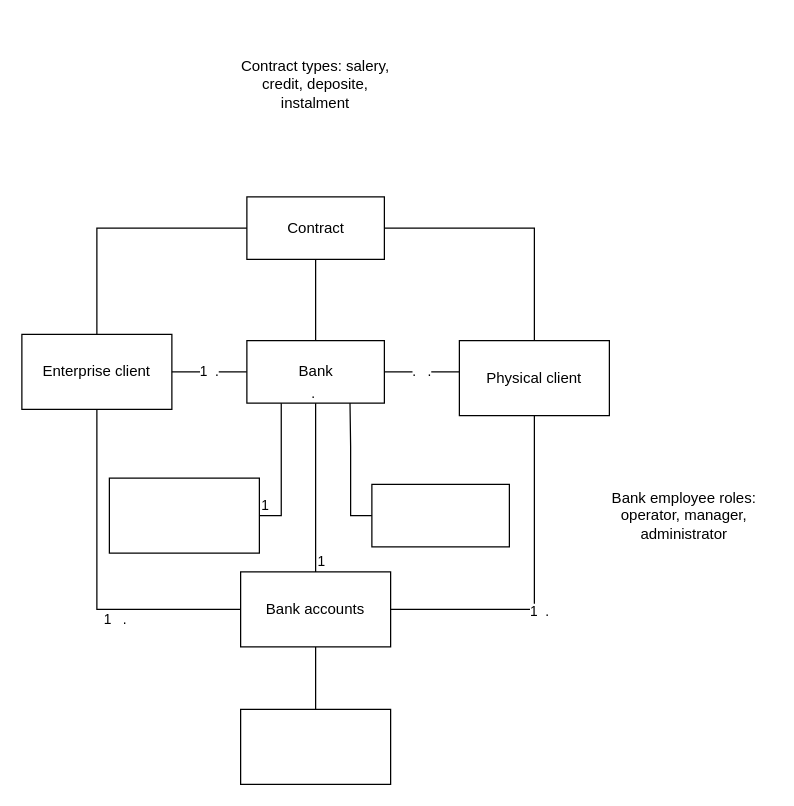
Some shapes in this 794 by 806 pixel diagram are drawn without their labels. The centre of each missing label's shape, as x and y in pixels:
Bank emloyee: [440,515]
Log: [183,515]
Transaction: [315,746]
